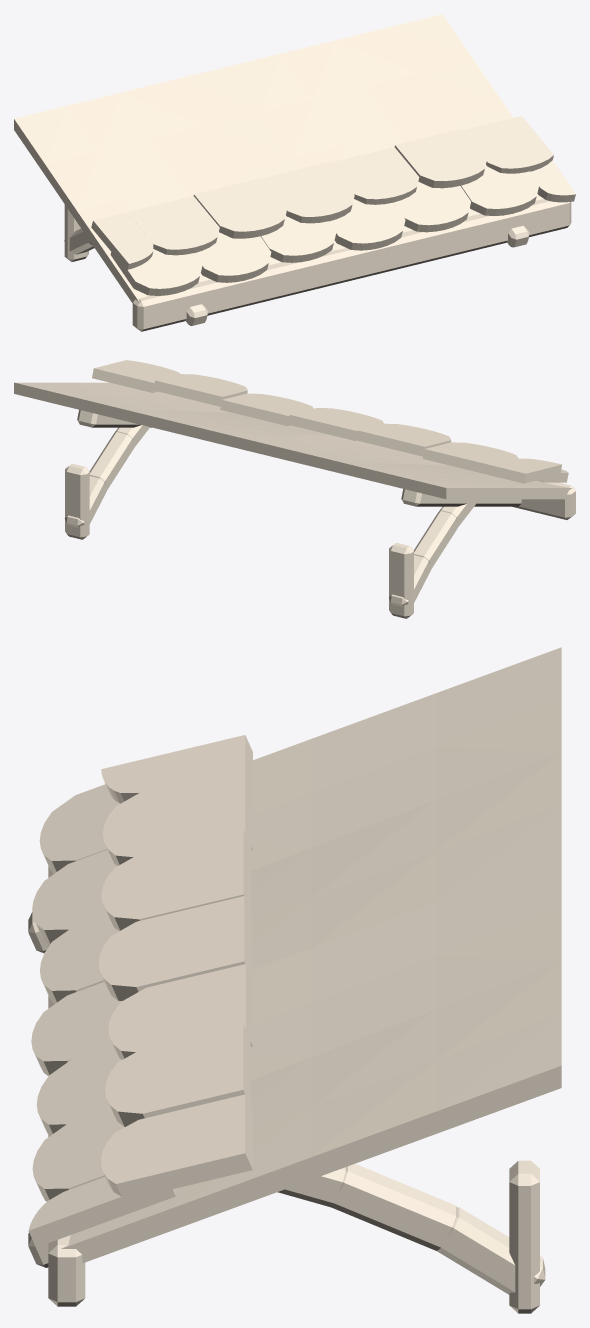
The model's file is SM_VK_Roof_Pent.fbx.
3 views of the same model, one above another, from view 1: azimuth 30°, elevation 25°; view 2: azimuth 150°, elevation 25°; view 3: azimuth 270°, elevation 25° (orthographic). The views are drawn at different scales.
Parts seen in each view (by area): view 1: SM_VK_Roof_Pent.001; view 2: SM_VK_Roof_Pent.001; view 3: SM_VK_Roof_Pent.001.
Part boxes in pixels (x1,y1,x2,y2): SM_VK_Roof_Pent.001: (14,14,575,331); SM_VK_Roof_Pent.001: (14,360,575,618); SM_VK_Roof_Pent.001: (28,647,561,1313).
Size of the model in its own units: 3.24 by 1.05 by 1.72.
